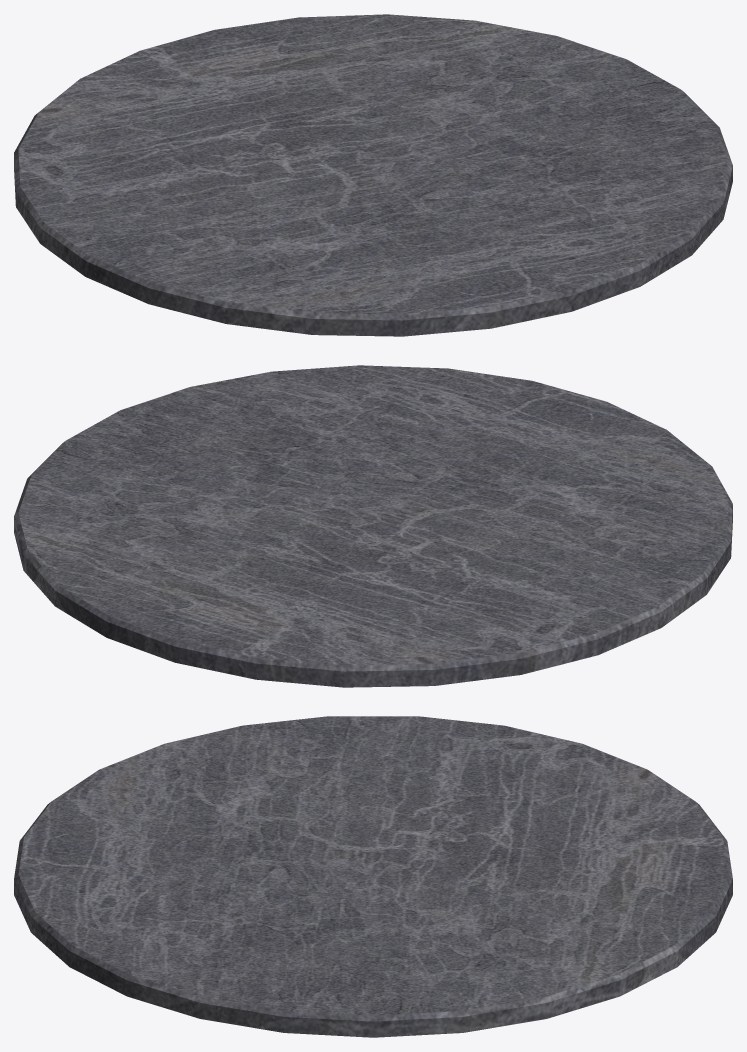
File: COBBLESTONE_BASE.glb
3 views of the same model, one above another, from view 1: azimuth 30°, elevation 25°; view 2: azimuth 150°, elevation 25°; view 3: azimuth 270°, elevation 25° (orthographic).
Visible parts, largest first — view 1: Object_2; view 2: Object_2; view 3: Object_2.
Boxes of the visible parts, <box> form: Object_2: <box>14,14,732,336</box>; Object_2: <box>14,365,732,687</box>; Object_2: <box>14,716,732,1037</box>.
Bounding box in the file's own units: 13.96 × 0.4324 × 13.99.
1 material, 1 textured.
